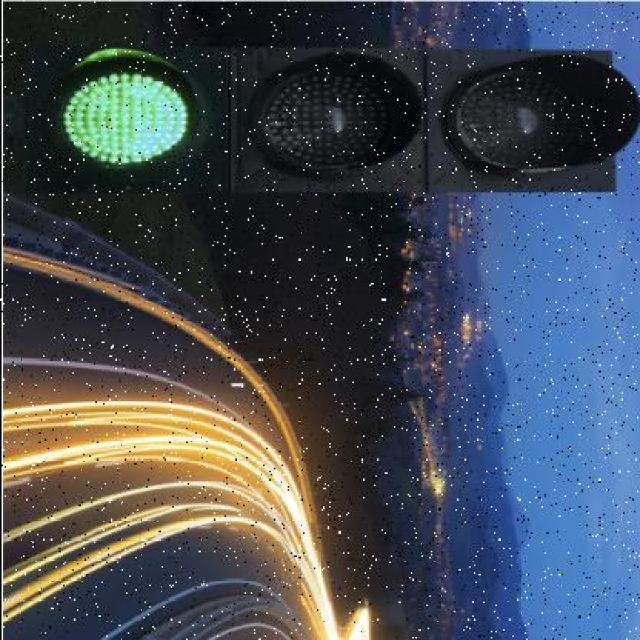green-light: (26, 20, 640, 202)
